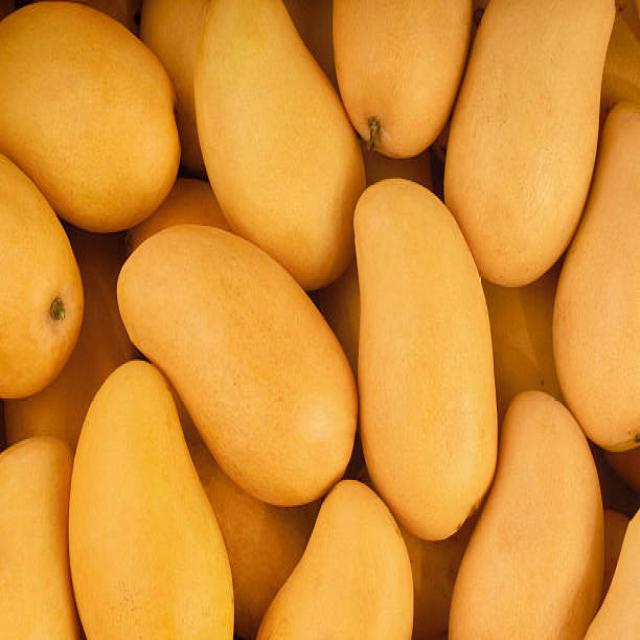mango: (118, 227, 358, 505), (354, 182, 498, 539), (194, 2, 366, 291), (445, 0, 615, 287), (70, 360, 234, 638), (0, 2, 180, 232), (449, 392, 604, 638), (258, 480, 414, 639), (0, 154, 84, 398), (0, 437, 82, 638)
